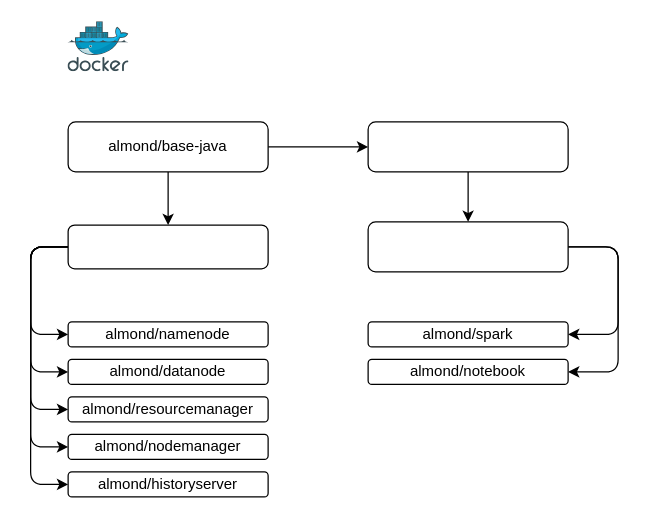
This 650x519 diagram has some shape labels left out. Each missing label, with the box of its shape:
almond/base-hadoop: (67, 224, 268, 269)
almond/base-java-python: (367, 121, 568, 172)
almond/base-spark: (367, 221, 568, 272)
